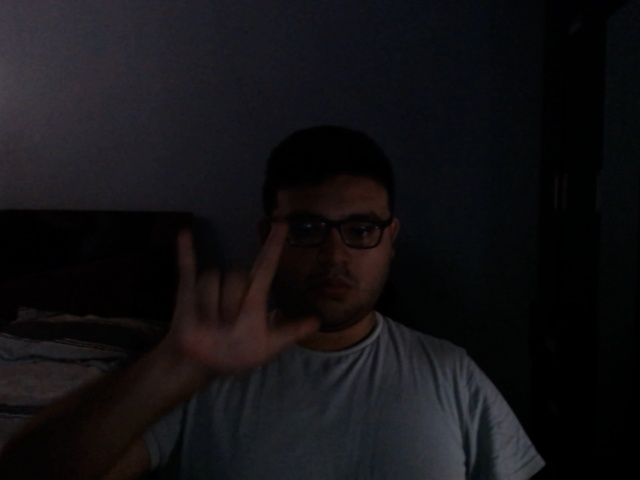I love you: (169, 221, 328, 381)
